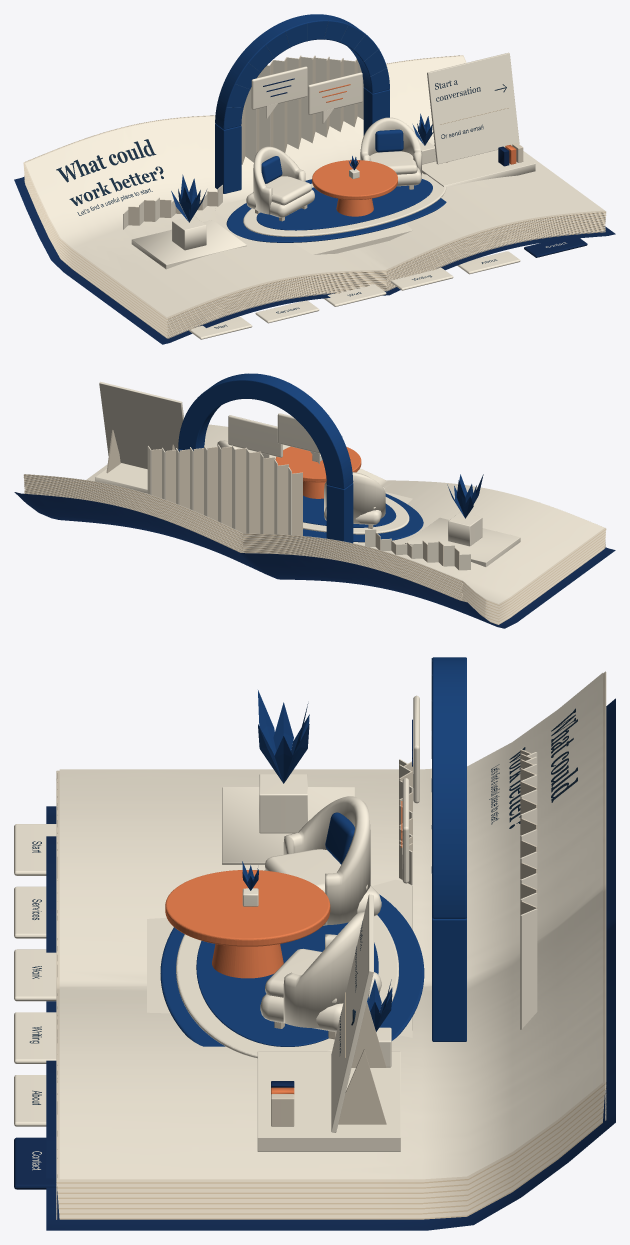
File: contact.glb
The picture shows the model from 3 angles, top to bottom: view 1: azimuth 30°, elevation 25°; view 2: azimuth 150°, elevation 25°; view 3: azimuth 270°, elevation 25°; orthographic projection. The views are drawn at different scales.
Visible parts, largest first — view 1: Conversation folded platform, Invitation folded support, Cream paper rug rim, Arch standing leg, Invitation paper book.002, Contact invitation, Open cobalt conversation arch, Leaf fore-edge 2.83 0, Cobalt lower cover, Paper leaf 00, Coral circular tabletop, Contact heading first (+10 smaller); view 2: Conversation folded platform, Invitation folded support, Cobalt lower cover, Invitation paper book.002, Open cobalt conversation arch, Cream paper rug rim, Contact invitation, Leaf fore-edge 2.83 0, Arch standing leg, Paper leaf 00, Reply bubble panel, Coral circular tabletop (+3 smaller); view 3: Conversation folded platform, Cream paper rug rim, Invitation folded support, Arch standing leg, Cobalt lower cover, Coral circular tabletop, Open cobalt conversation arch, Paper leaf 00, Contact invitation, Left lounge plant folded leaf, Contact heading first, Invitation paper book.002 (+8 smaller).
Part boxes in pixels (<box>): Conversation folded platform: <box>25,56,604,317</box>; Invitation folded support: <box>23,55,606,337</box>; Cream paper rug rim: <box>131,141,566,269</box>; Arch standing leg: <box>215,88,446,242</box>; Invitation paper book.002: <box>24,55,605,338</box>; Contact invitation: <box>427,52,519,164</box>; Open cobalt conversation arch: <box>215,14,389,129</box>; Leaf fore-edge 2.83 0: <box>24,108,605,338</box>; Cobalt lower cover: <box>14,177,615,344</box>; Paper leaf 00: <box>23,163,606,338</box>; Coral circular tabletop: <box>312,160,397,199</box>; Contact heading first: <box>56,80,506,328</box>; Conversation folded platform: <box>25,424,604,603</box>; Invitation folded support: <box>24,430,606,624</box>; Cobalt lower cover: <box>14,492,615,628</box>; Invitation paper book.002: <box>24,470,605,600</box>; Open cobalt conversation arch: <box>178,373,353,488</box>; Cream paper rug rim: <box>95,454,520,566</box>; Contact invitation: <box>99,381,183,469</box>; Leaf fore-edge 2.83 0: <box>24,475,605,600</box>; Arch standing leg: <box>178,447,423,543</box>; Paper leaf 00: <box>24,475,606,624</box>; Reply bubble panel: <box>228,415,282,457</box>; Coral circular tabletop: <box>275,446,361,482</box>; Conversation folded platform: <box>59,673,602,1179</box>; Cream paper rug rim: <box>32,774,400,1170</box>; Invitation folded support: <box>56,671,605,1218</box>; Arch standing leg: <box>160,812,466,1046</box>; Cobalt lower cover: <box>46,698,615,1230</box>; Coral circular tabletop: <box>165,870,330,946</box>; Open cobalt conversation arch: <box>432,657,466,918</box>; Paper leaf 00: <box>57,1083,605,1219</box>; Contact invitation: <box>331,894,373,1132</box>; Left lounge plant folded leaf: <box>242,690,392,1031</box>; Contact heading first: <box>29,708,577,1104</box>; Invitation paper book.002: <box>56,671,606,1218</box>.
Bounding box in the file's own units: 10.35 × 4.24 × 6.21.
